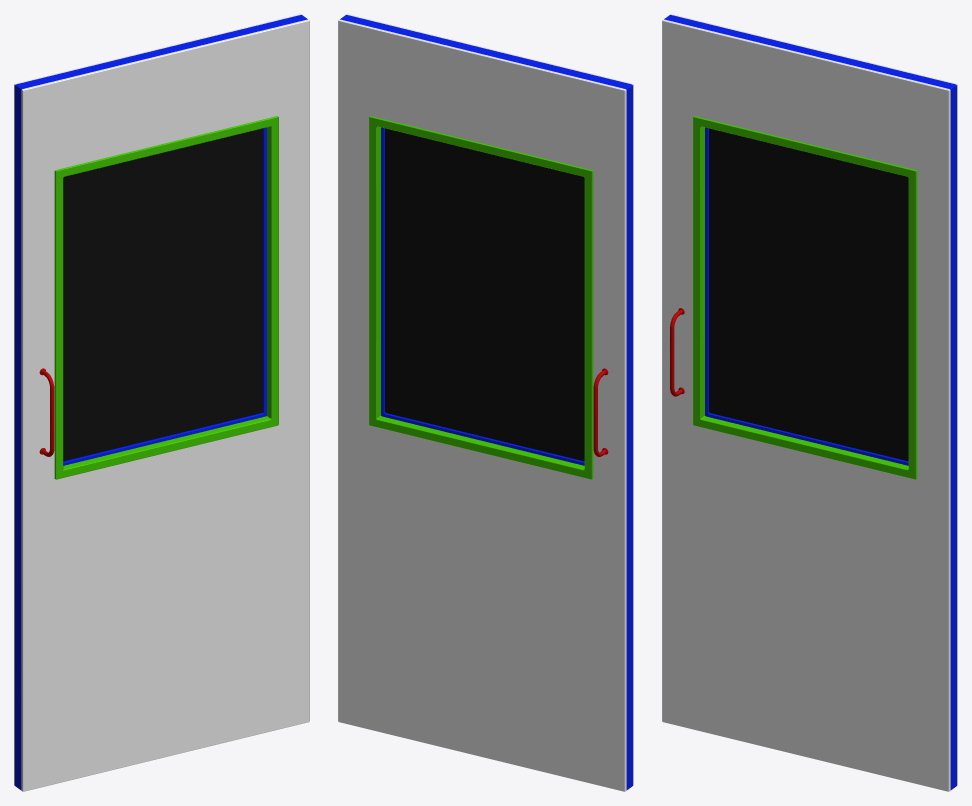
The model's file is Door01bWindow.fbx.
3 views of the same model, side by side, from view 1: azimuth 30°, elevation 25°; view 2: azimuth 150°, elevation 25°; view 3: azimuth 330°, elevation 25° (orthographic).
Parts seen in each view (by area): view 1: Door01bWindow; view 2: Door01bWindow; view 3: Door01bWindow.
Boxes of the visible parts, left/top/right/bottom form: Door01bWindow: left=14, top=14, right=309, bottom=791; Door01bWindow: left=338, top=14, right=633, bottom=791; Door01bWindow: left=662, top=14, right=957, bottom=791.
Bounding box in the file's own units: 90 × 210 × 16.4.
